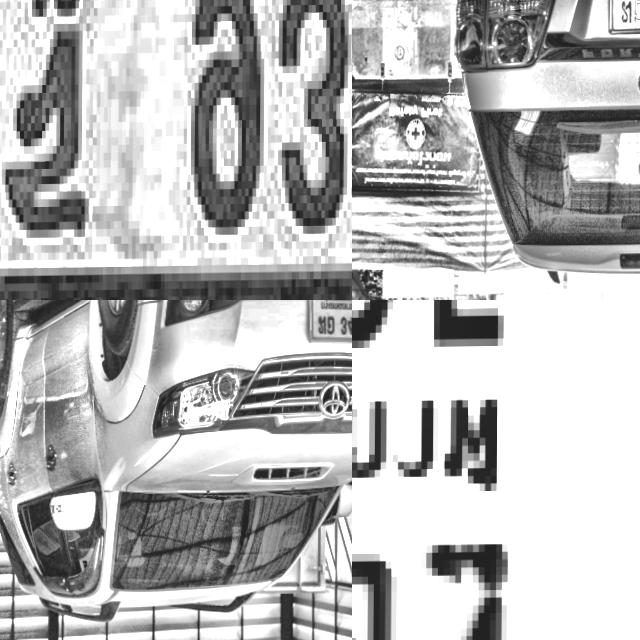license-plate: (0, 0, 352, 300), (352, 300, 640, 640), (306, 300, 352, 345)
